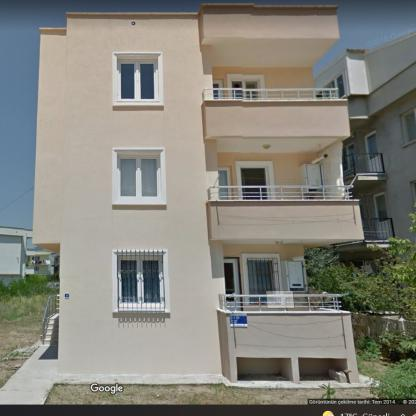door: (237, 162, 274, 198), (224, 258, 242, 310), (374, 192, 390, 238), (365, 132, 381, 172)
window: (117, 254, 164, 309), (117, 152, 160, 202), (116, 57, 158, 104), (247, 258, 278, 304), (229, 78, 261, 97), (326, 71, 345, 98), (402, 108, 416, 142), (219, 167, 231, 200), (343, 143, 356, 171), (214, 80, 223, 98)
